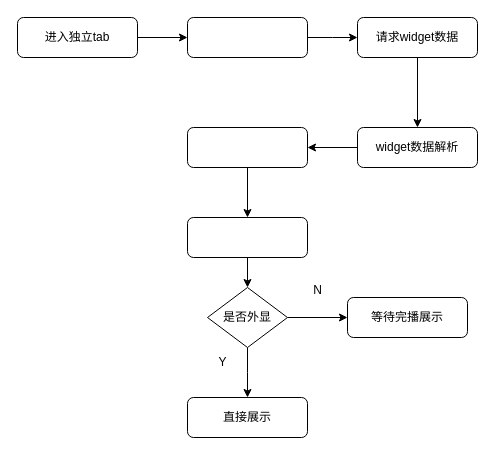
This 495x455 diagram has some shape labels left out. The centre of each missing label's shape, as x and y in pixels:
"数据缓存至笔详" belongs at point 247,147.
"视频拓展信息节点 创建" belongs at point 247,237.
"请求笔详数据" belongs at point 247,37.
